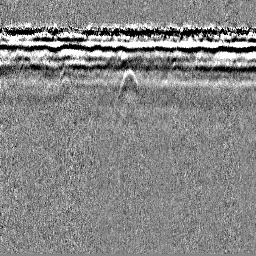cavity: (116, 68, 140, 102)
